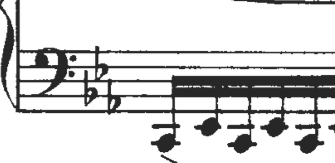bass_clef: (27, 36, 81, 102)
flat: (103, 75, 126, 119), (89, 42, 112, 84), (78, 69, 100, 112)
